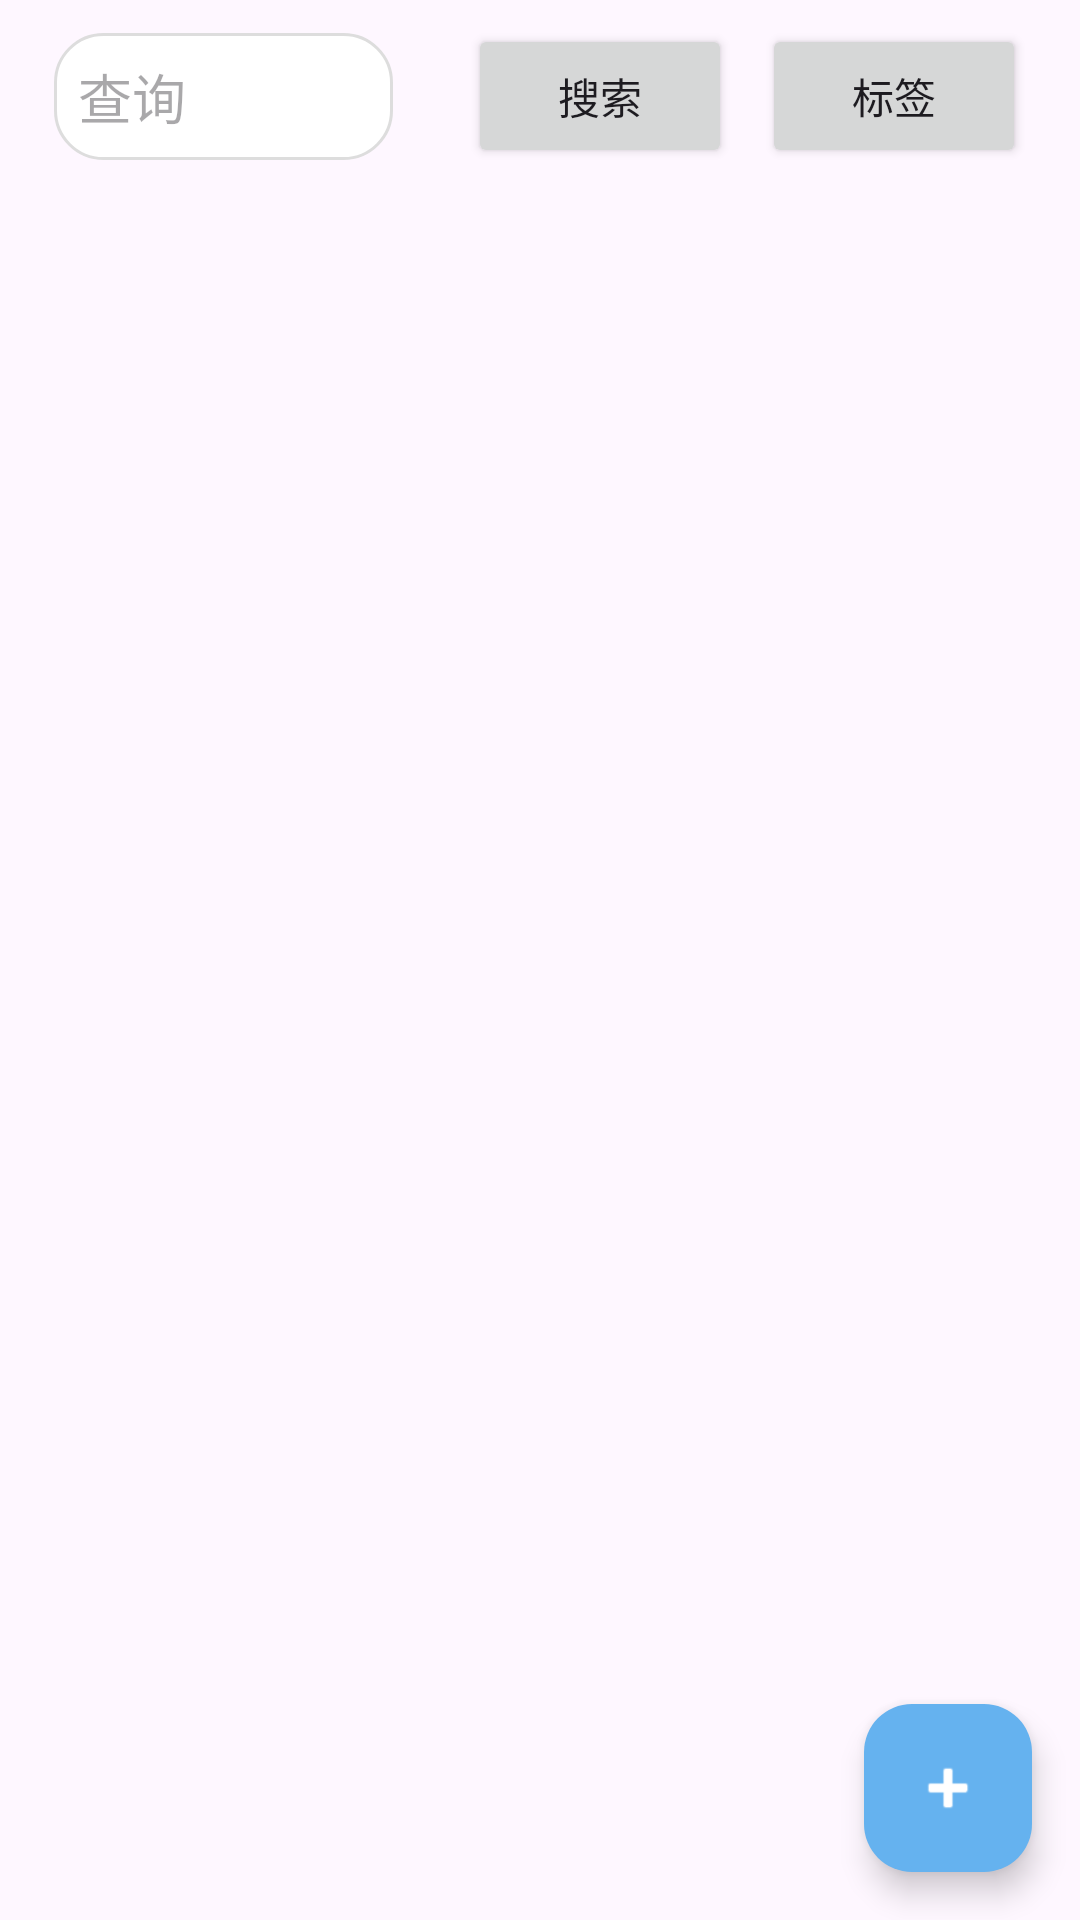

Point at icon controls on the screen. Image size 1080×1920, points as (x=x, y=y).
Add note: (x=948, y=1788)
